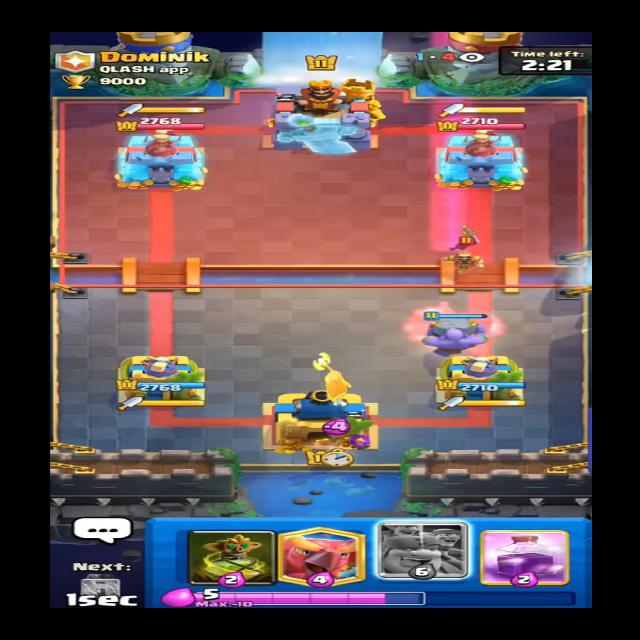wizard: (436, 236, 485, 278)
